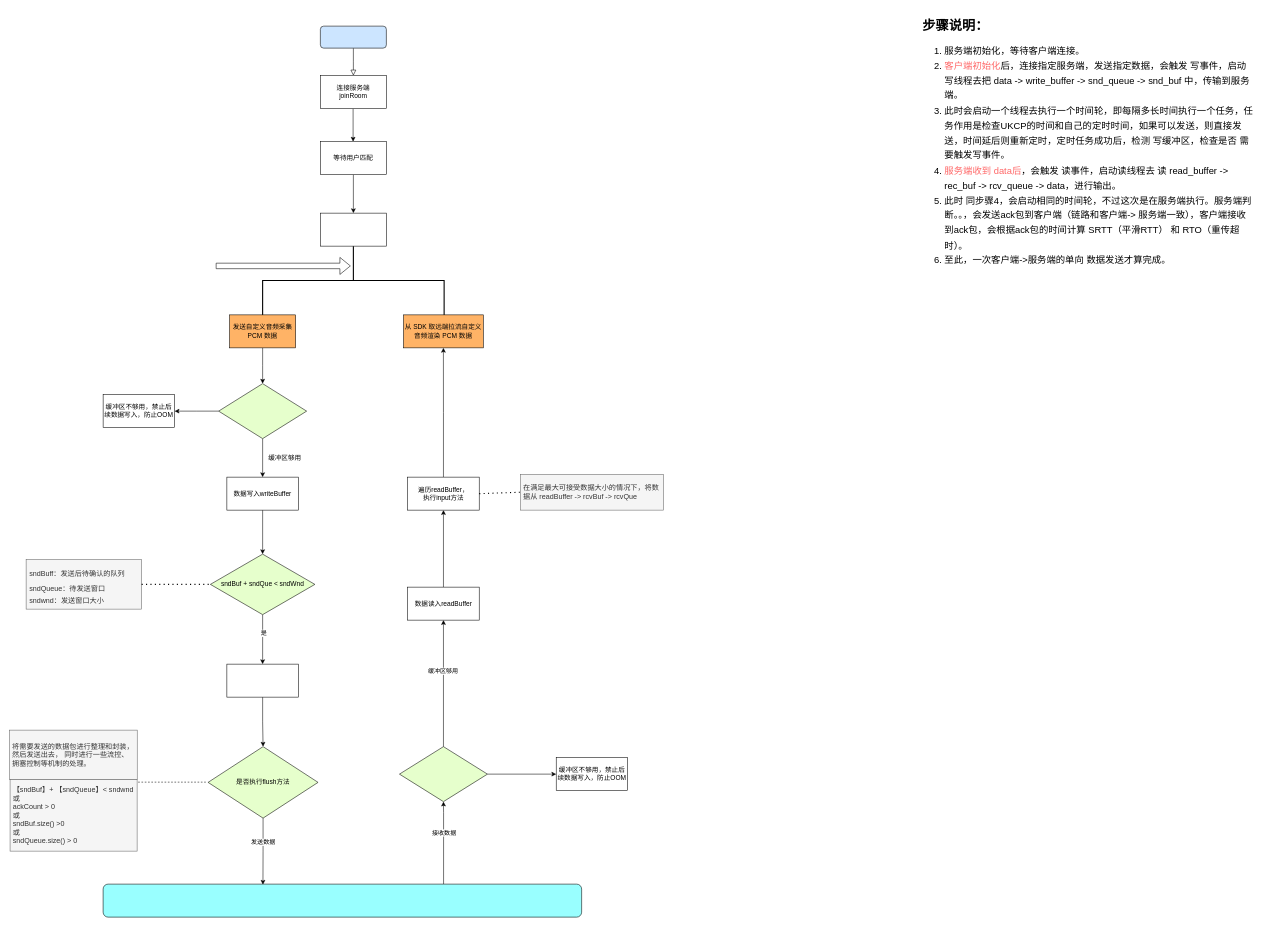
Some shapes in this 1265 by 927 pixel diagram are drawn without their labels. The shapes that lost their labels are listed below. From the top down, each one's box as (x1, y1, x2, y2) in pixels, then its label:
(320, 26, 386, 48): 客户端A
(320, 213, 386, 246): 匹配成功（此刻房间内有两人）
(262, 245, 444, 315): 开始推流、开始拉流
(218, 383, 307, 439): 判断写入缓冲区大小
(226, 664, 298, 697): 数据写入sndQue
(399, 746, 487, 802): 判断读取缓冲区大小
(103, 884, 582, 917): 中继服务器
